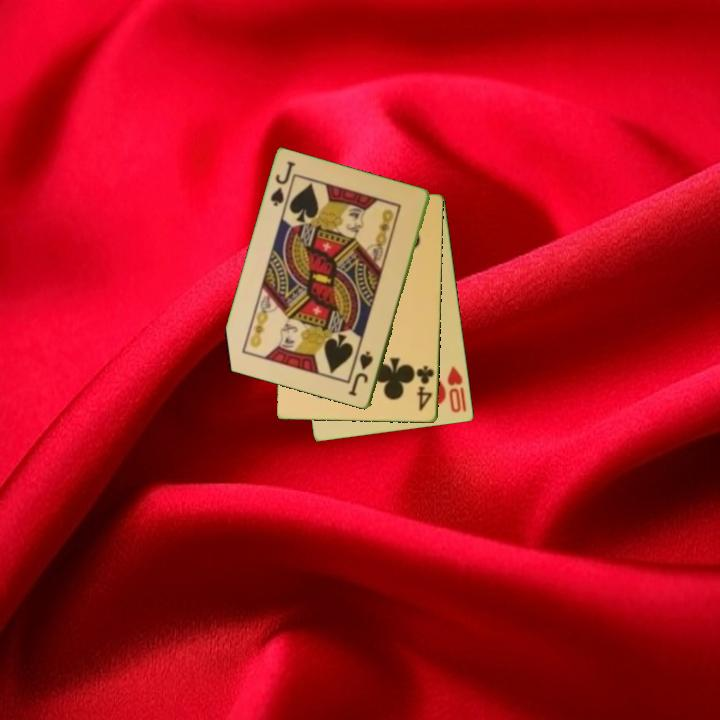10h: (444, 363, 470, 416)
4c: (413, 363, 437, 414)
Js: (267, 158, 298, 209), (347, 348, 376, 399)
